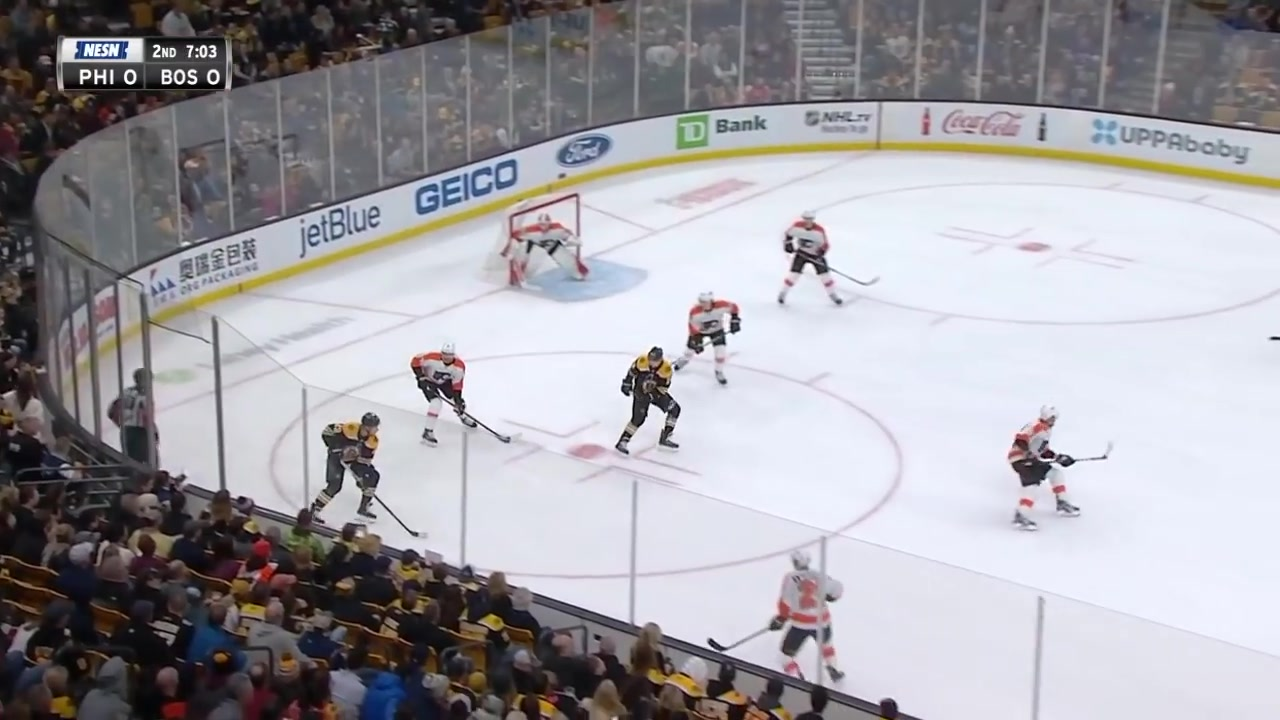Geico: (409, 155, 531, 222)
